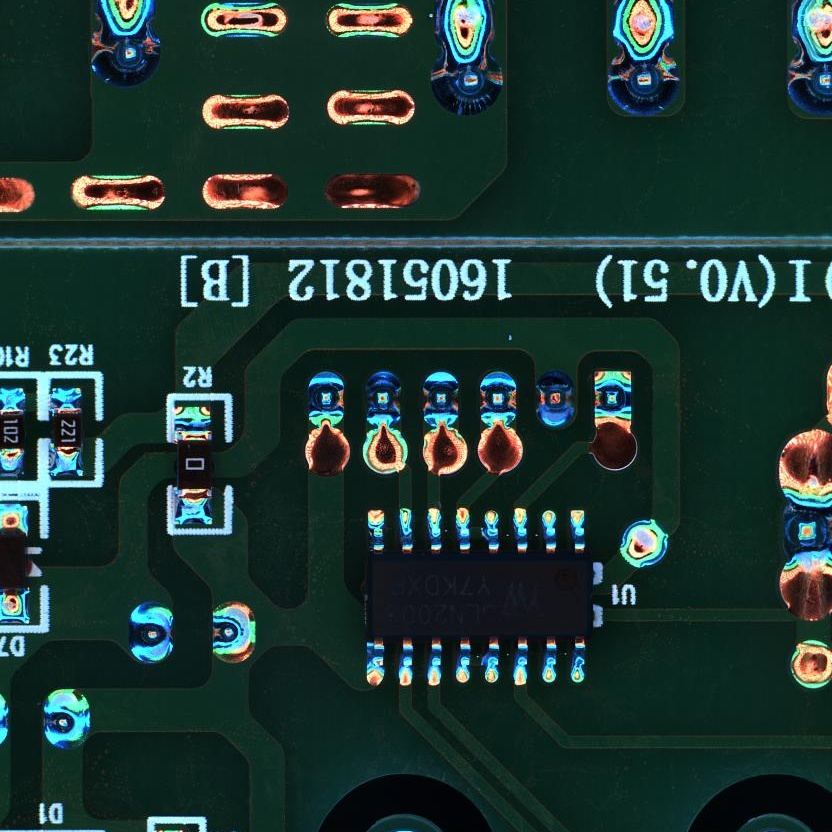spot: (428, 46, 506, 117), (605, 48, 683, 117), (87, 18, 163, 87), (776, 491, 832, 565), (40, 688, 93, 753), (126, 599, 175, 665), (209, 598, 257, 665), (788, 49, 832, 115), (617, 515, 670, 569), (361, 370, 402, 431), (592, 368, 633, 428), (421, 370, 460, 430), (304, 371, 345, 428), (537, 370, 575, 431), (479, 372, 518, 430)
